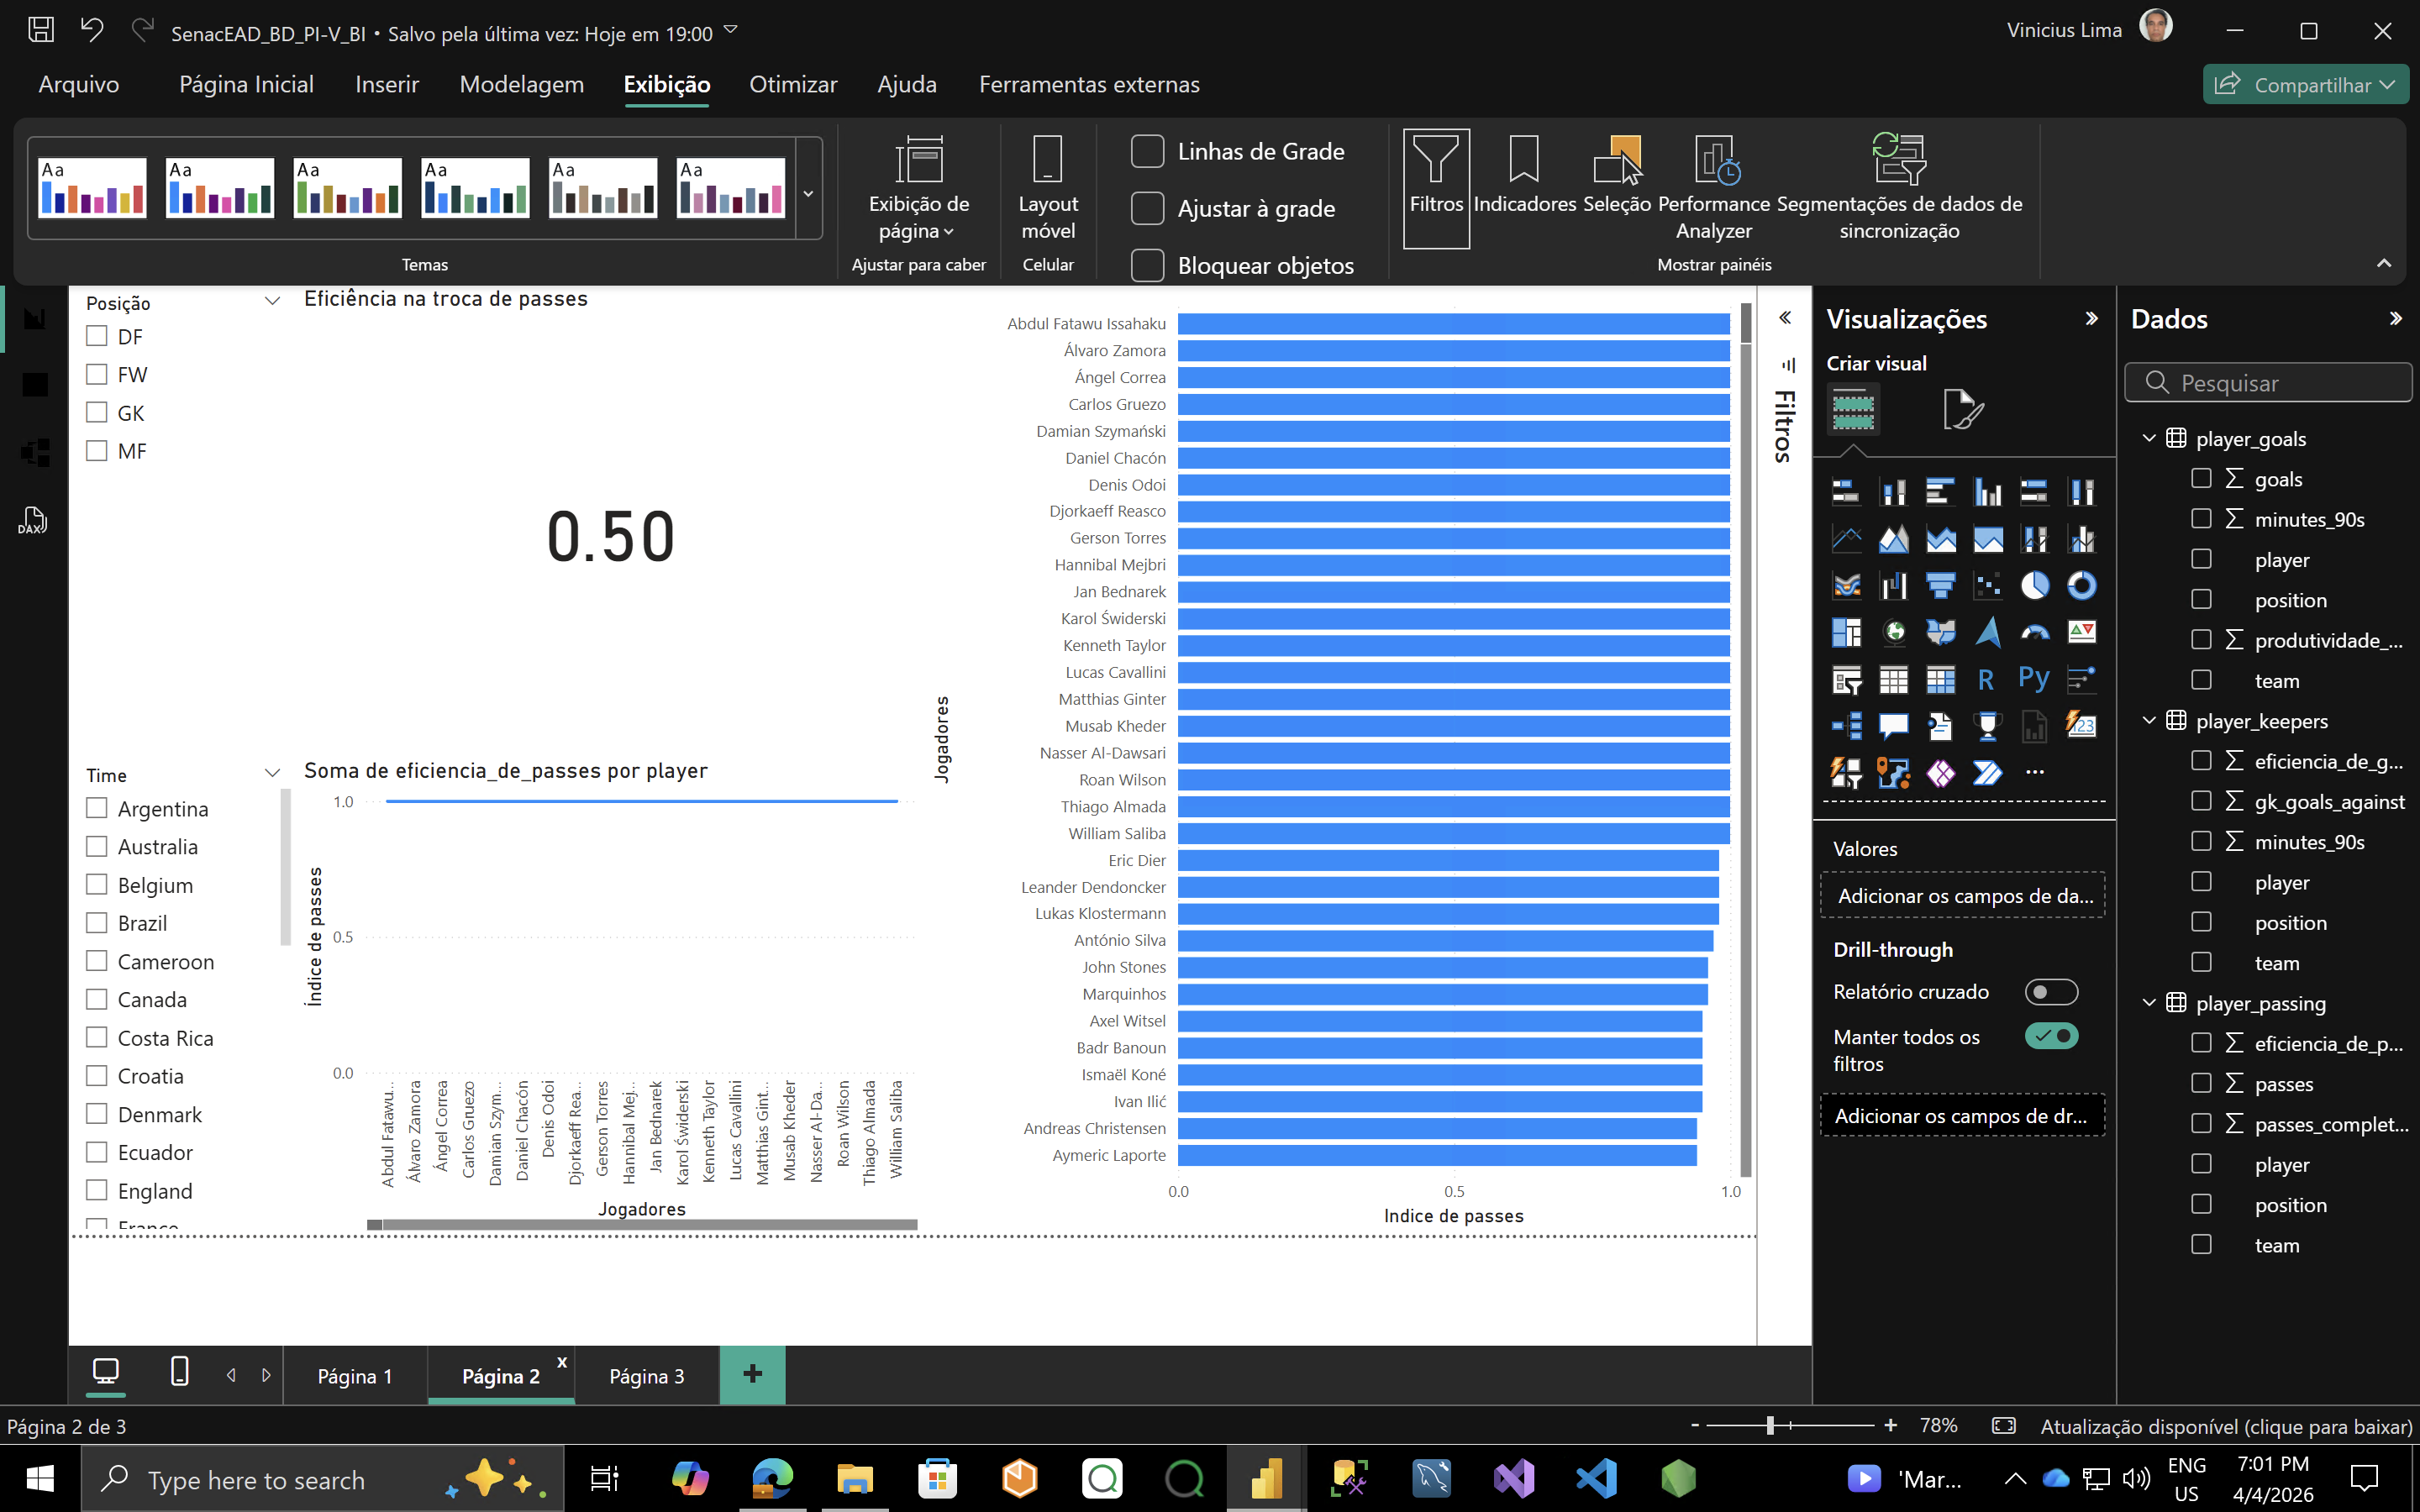

The page's visual inventory and layout, read from the dashboard file:
{"tool":"powerbi","page":{"name":"Página 2","canvas":[1280,720],"ordinal":1},"visuals":[{"type":"clusteredBarChart","title":"Eficiência na troca de passes","fields":{"Category":["player_passing.player"],"Y":["Sum(player_passing.eficiencia_de_passes)"]},"box":[648.9,0,632.4,719],"z":0},{"type":"slicer","title":"Posição","fields":{"Values":["player_stats.position"]},"box":[0,0,173.4,359.5],"z":1000},{"type":"slicer","fields":{"Values":["player_stats.team"]},"box":[0,357.9,173.4,362.1],"z":2000},{"type":"kpi","title":"Eficiência na troca de passes","fields":{"Indicator":["Sum(player_passing.eficiencia_de_passes)"],"TrendLine":["player_passing.player"]},"box":[173.4,0,475.5,359.5],"z":3000},{"type":"lineChart","fields":{"Y":["Sum(player_passing.eficiencia_de_passes)"],"Category":["player_passing.player"]},"box":[173.4,358.2,475.5,363.3],"z":4000}]}

Visuals, with their boxes on the page's 1280x720 design canvas (x1, y1, x2, y2). These are canvas units, not pixel positions in the 2420x1512 screenshot, which may show the page scaled, cropped or inside an application window:
"Eficiência na troca de passes" clusteredBarChart: box(649, 0, 1281, 719)
"Posição" slicer: box(0, 0, 173, 360)
slicer - player_stats.team: box(0, 358, 173, 720)
"Eficiência na troca de passes" kpi: box(173, 0, 649, 360)
lineChart - Sum(player_passing.eficiencia_de_passes) x player_passing.player: box(173, 358, 649, 722)
